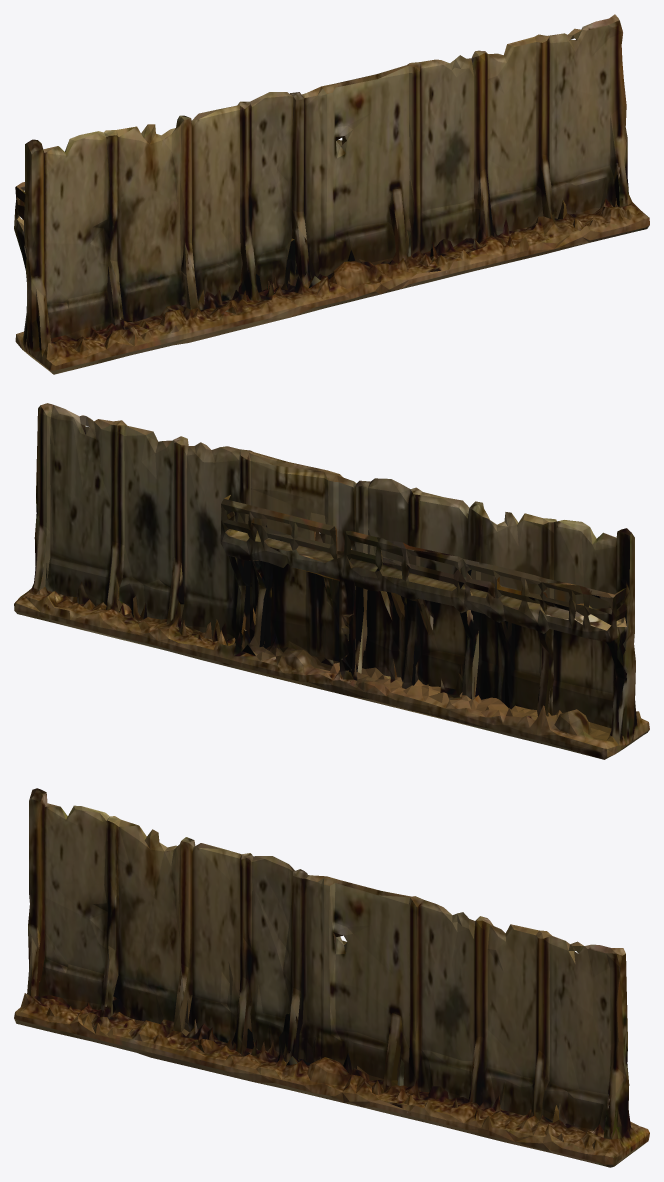
File: outpost-blast-wall.glb
3 renders of one model, top to bottom at view 1: azimuth 30°, elevation 25°; view 2: azimuth 150°, elevation 25°; view 3: azimuth 330°, elevation 25°, orthographic.
Visible parts, largest first — view 1: tmpimtq0g9r.ply; view 2: tmpimtq0g9r.ply; view 3: tmpimtq0g9r.ply.
Part boxes in pixels (x1,y1,x2,y2): tmpimtq0g9r.ply: (14, 14, 649, 374); tmpimtq0g9r.ply: (14, 403, 649, 759); tmpimtq0g9r.ply: (14, 788, 649, 1167).
Bounding box in the file's own units: 10 × 3.5 × 1.2.
Materials: 1 (1 with a texture image).
